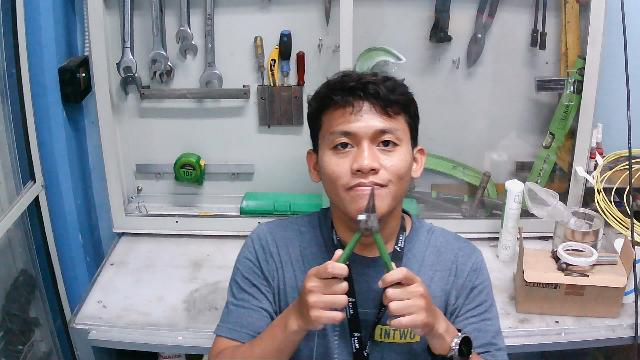tang_cucut_lancip_2: (315, 185, 409, 290)
